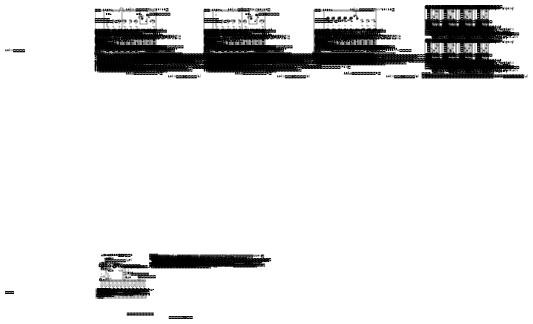door: (12, 51, 13, 52), (16, 51, 17, 52), (12, 51, 13, 51), (16, 51, 17, 51), (21, 51, 21, 52), (21, 51, 21, 51), (460, 315, 461, 315), (454, 315, 455, 315), (483, 315, 483, 315), (477, 315, 477, 315), (505, 315, 506, 315), (499, 315, 500, 315), (528, 315, 528, 315), (522, 315, 522, 315), (460, 280, 461, 280), (454, 280, 455, 280), (483, 280, 483, 280), (477, 280, 477, 280), (505, 280, 506, 280), (499, 280, 500, 280), (528, 280, 528, 280), (522, 280, 522, 280)
room: (476, 293, 488, 324), (521, 293, 533, 324), (476, 258, 488, 289), (521, 258, 533, 289), (454, 293, 465, 324), (499, 293, 510, 324), (454, 258, 465, 289), (499, 258, 510, 289), (447, 309, 454, 324), (492, 309, 499, 324), (447, 274, 454, 289), (492, 274, 499, 289), (470, 309, 476, 324), (515, 309, 521, 324), (470, 274, 476, 289), (515, 274, 521, 289), (10, 50, 13, 52), (19, 50, 22, 52), (13, 56, 19, 57), (32, 302, 35, 304), (17, 302, 19, 305), (164, 302, 166, 305), (37, 51, 42, 52), (58, 39, 63, 40), (15, 50, 17, 52), (25, 302, 27, 304), (40, 302, 42, 304), (48, 302, 50, 304), (56, 302, 58, 304), (79, 302, 81, 304), (172, 302, 174, 304), (180, 302, 182, 304), (188, 302, 190, 304), (196, 302, 198, 304), (203, 302, 205, 304), (227, 302, 229, 304), (377, 303, 380, 304), (361, 303, 363, 304), (369, 303, 371, 304)
wall: (52, 271, 66, 273), (199, 271, 213, 273), (198, 319, 201, 322), (35, 319, 38, 322), (8, 29, 11, 30), (24, 29, 27, 30), (29, 29, 32, 30), (34, 29, 37, 30), (50, 29, 53, 30), (55, 29, 58, 30), (60, 29, 63, 30), (14, 29, 16, 30), (19, 29, 21, 30), (40, 29, 42, 30), (45, 29, 47, 30), (66, 29, 68, 30), (75, 315, 75, 315), (314, 300, 316, 300), (322, 300, 324, 300), (329, 300, 332, 300), (337, 300, 340, 300), (345, 300, 347, 300), (353, 314, 354, 314), (222, 315, 223, 315)
